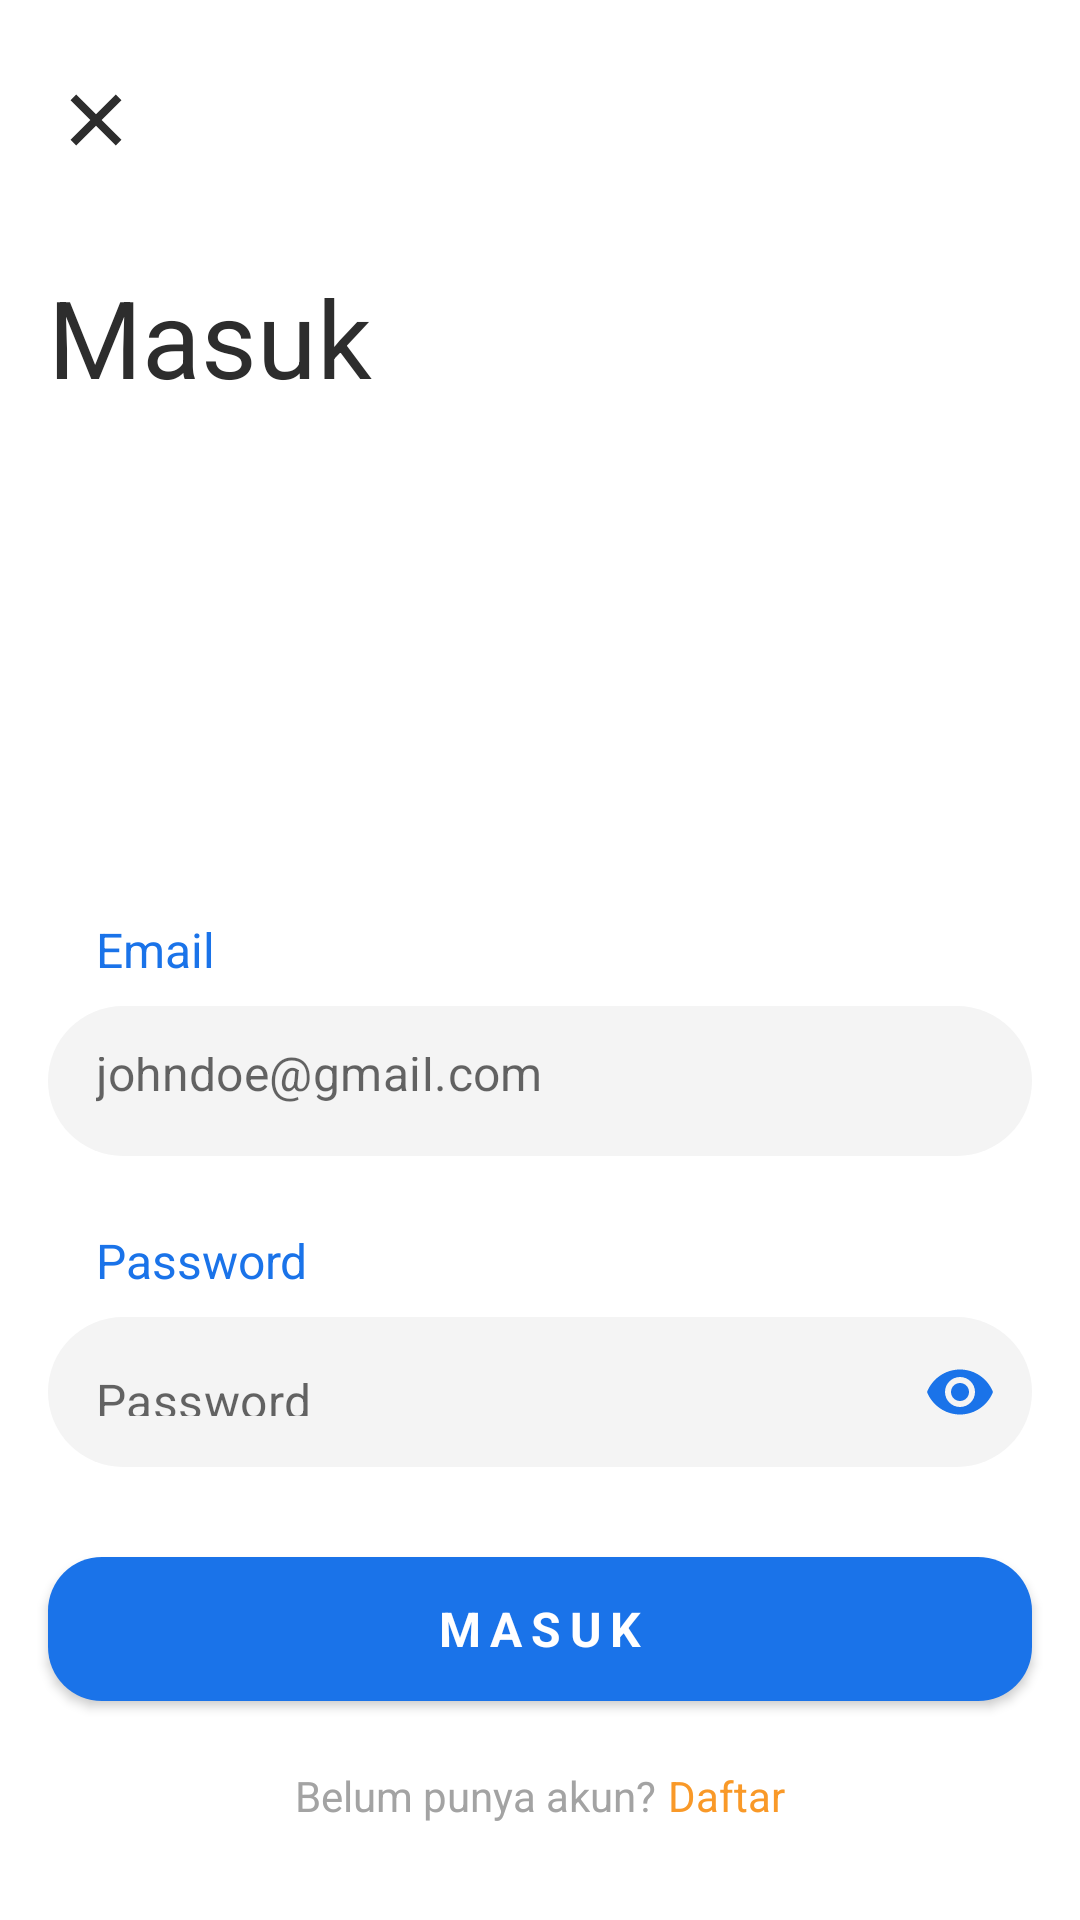

Named icons in this screenshot (1080*1920) and their centers, [x,y]:
close: [96,120]
